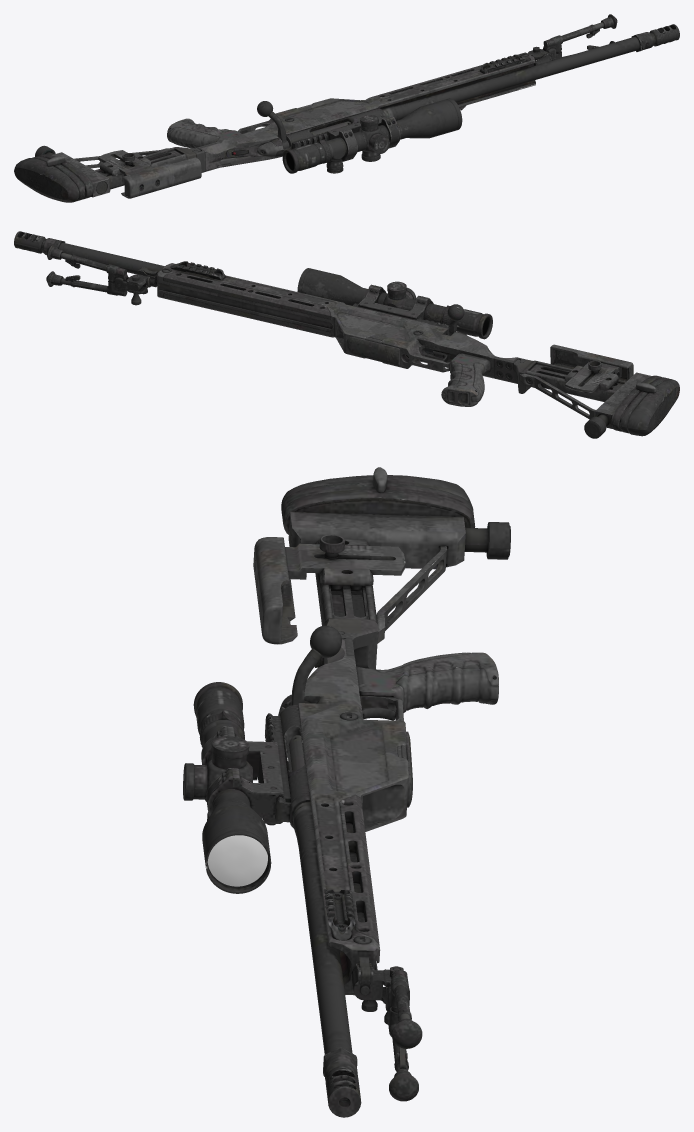
The model's file is w_scout.glb.
3 renders of one model, top to bottom at view 1: azimuth 30°, elevation 25°; view 2: azimuth 150°, elevation 25°; view 3: azimuth 270°, elevation 25°, orthographic. The views are drawn at different scales.
Visible parts, largest first — view 1: w_scout; view 2: w_scout; view 3: w_scout.
Boxes of the visible parts, <box> form: w_scout: <box>14,14,679,202</box>; w_scout: <box>14,231,679,438</box>; w_scout: <box>183,467,510,1117</box>.
Size of the model in its own units: 1.76 by 0.1626 by 0.3941.
2 materials, 2 textured.
